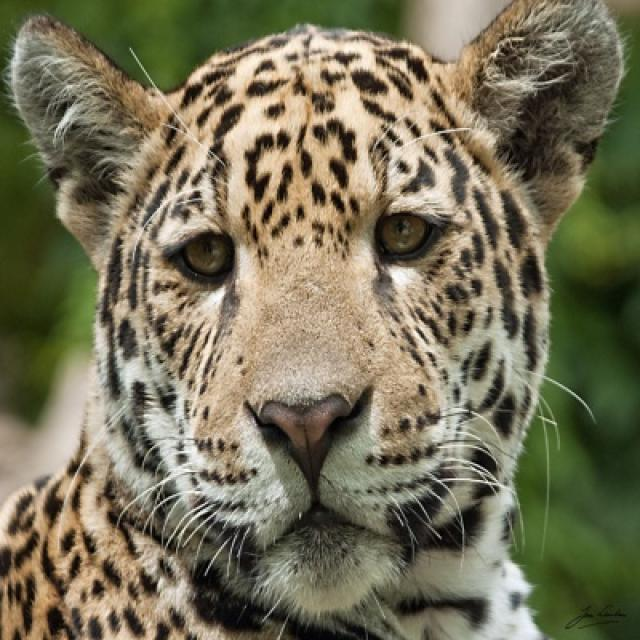Jaguar: (0, 0, 626, 638)
